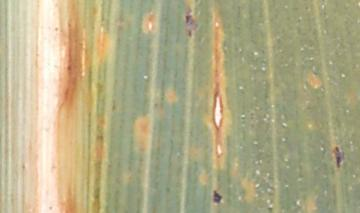tarspot: (334, 147, 345, 168), (212, 191, 222, 205), (185, 15, 194, 27), (187, 30, 193, 38)
